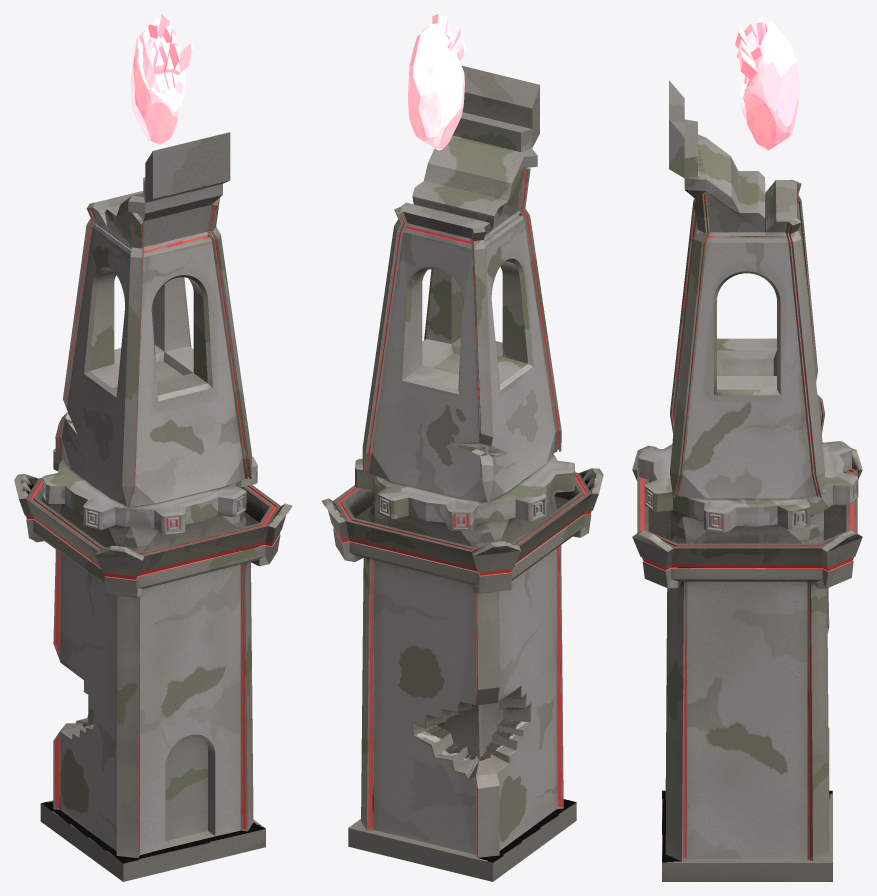
The model's file is environment_tower_v2.glb.
The picture shows the model from 3 angles, left to right: view 1: azimuth 30°, elevation 25°; view 2: azimuth 150°, elevation 25°; view 3: azimuth 270°, elevation 25°; orthographic projection. The views are drawn at different scales.
Visible parts, largest first — view 1: BatimentBas, BatimentHaut, Engrenage, GrosCrystal; view 2: BatimentBas, BatimentHaut, Engrenage, GrosCrystal; view 3: BatimentBas, BatimentHaut, Engrenage, GrosCrystal.
Boxes of the visible parts, <box> form: BatimentBas: <box>14,474,292,881</box>; BatimentHaut: <box>55,132,251,509</box>; Engrenage: <box>42,448,257,534</box>; GrosCrystal: <box>130,14,193,145</box>; BatimentBas: <box>321,468,603,881</box>; BatimentHaut: <box>362,66,561,503</box>; Engrenage: <box>355,454,575,530</box>; GrosCrystal: <box>408,14,466,150</box>; BatimentBas: <box>632,445,862,881</box>; BatimentHaut: <box>669,80,825,498</box>; Engrenage: <box>638,441,858,532</box>; GrosCrystal: <box>735,14,799,150</box>.
Bounding box in the file's own units: 2.61 × 10.51 × 2.61.
4 materials, 3 textured.
